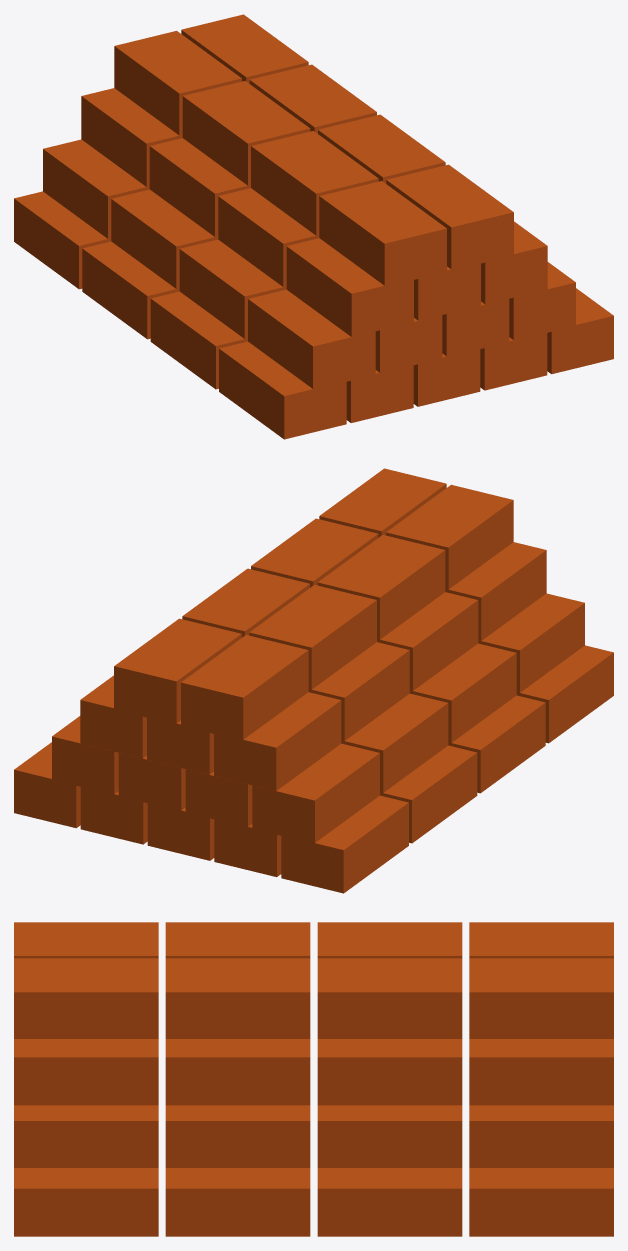
3 renders of one model, top to bottom at view 1: azimuth 30°, elevation 25°; view 2: azimuth 150°, elevation 25°; view 3: azimuth 270°, elevation 25°, orthographic. The views are drawn at different scales.
Visible parts, largest first — view 1: A-1; view 2: A-1; view 3: A-1.
Boxes of the visible parts, x1,y1,x2,y2 form: A-1: (14, 14, 613, 439); A-1: (14, 468, 613, 893); A-1: (14, 922, 613, 1236).
Size of the model in its own units: 306 by 152 by 434.
